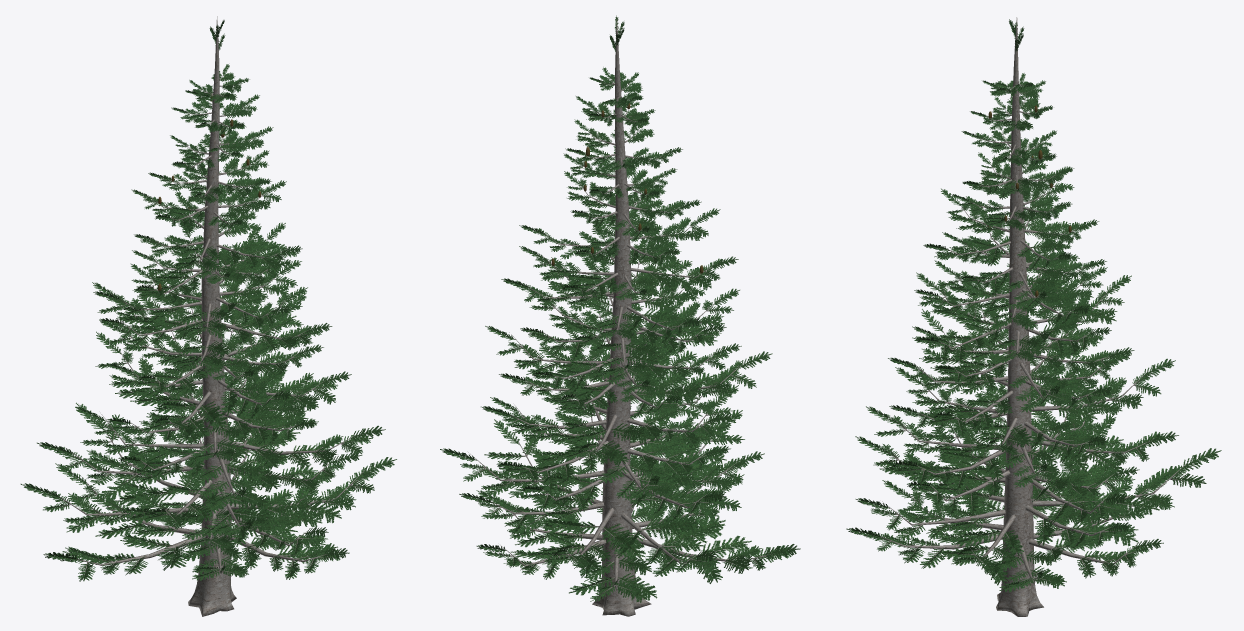
File: silver-fir.glb
The picture shows the model from 3 angles, left to right: view 1: azimuth 30°, elevation 25°; view 2: azimuth 150°, elevation 25°; view 3: azimuth 270°, elevation 25°; orthographic projection.
Visible parts, largest first — view 1: Silver Fir; view 2: Silver Fir; view 3: Silver Fir.
Part boxes in pixels (bbox=[...]): Silver Fir: bbox=[20, 16, 396, 616]; Silver Fir: bbox=[440, 15, 800, 616]; Silver Fir: bbox=[846, 17, 1221, 616].
Bounding box in the file's own units: 7.64 × 12.6 × 7.55.
3 materials, 3 textured.
